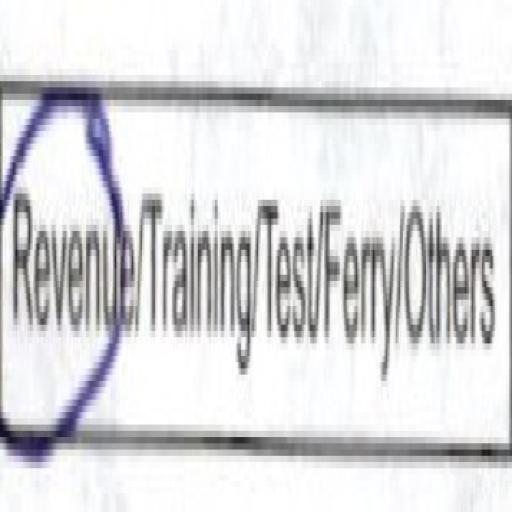check: (0, 71, 139, 490)
